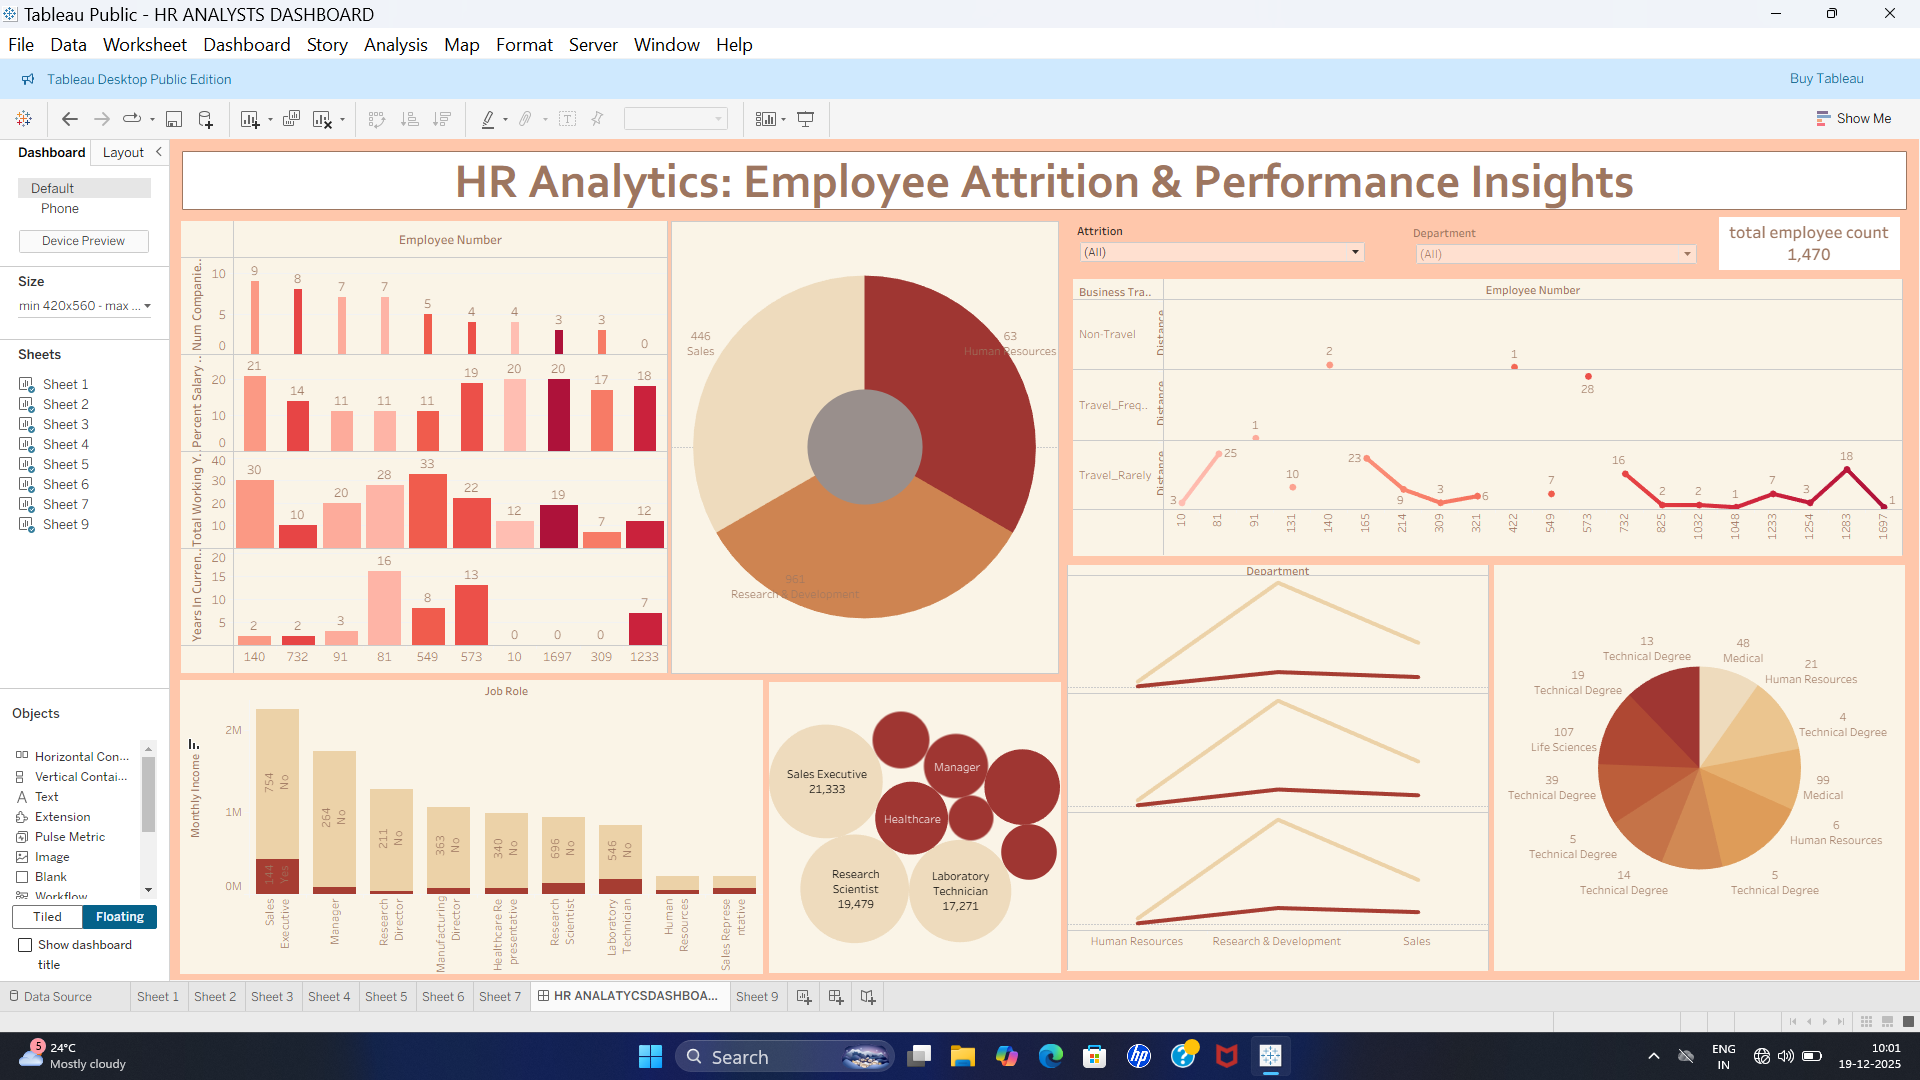

Layout of this report page (visuals, bound fields, positions):
{"tool":"tableau","page":{"name":"HR ANALATYCSDASHBOARD","canvas":[1000,1000],"units":"permille","ordinal":1},"visuals":[{"type":"title","box":[4.7,9.3,990.6,74.8]},{"type":"worksheet","title":"Sheet 9","mark":"Automatic","box":[885.6,92.3,105.8,63.1]},{"type":"filter","title":"Sheet 8","param":"[federated.1ck7q631gmphqs1922pox0fnwn81].[none:Attrition:nk]","box":[521.4,93.5,356.8,63.1]},{"type":"worksheet","title":"Sheet 3","mark":"Pie","rows":["Calculation_1061442191720660992","Calculation_1061442191720660992"],"box":[290.8,94.6,224.7,543.2]},{"type":"worksheet","title":"Sheet 5","mark":"Automatic","rows":["NumCompaniesWorked","PercentSalaryHike","TotalWorkingYears","YearsInCurrentRole"],"cols":["EmployeeNumber"],"box":[6.4,97,278.5,538.5]},{"type":"worksheet","title":"Sheet 7","mark":"Line","rows":["BusinessTravel","DistanceFromHome"],"cols":["EmployeeNumber"],"box":[518.6,167.1,472.3,329.4]},{"type":"worksheet","title":"Sheet 8","mark":"Automatic","box":[373.3,247.7,163.2,332.9]},{"type":"worksheet","title":"Sheet 1","mark":"Line","rows":["DailyRate","HourlyRate","MonthlyRate"],"cols":["Department"],"box":[518.4,507,235.2,483.6]},{"type":"worksheet","title":"Sheet 6","mark":"Pie","box":[757.2,507,235.2,482.5]},{"type":"worksheet","title":"Sheet 2","mark":"Bar","rows":["MonthlyIncome"],"cols":["JobRole"],"box":[5.7,643.7,333.3,349.3]},{"type":"worksheet","title":"Sheet 4","mark":"Circle","box":[342.5,646,172.1,345.8]}]}

Visuals, with their boxes on the dashboard's canvas, which has no fixed pixel size, in thousandths of its width and height (x1, y1, x2, y2). These are canvas units, not pixel positions in the 1920x1080 screenshot, which may show the page scaled, cropped or inside an application window:
title: detection(5, 9, 995, 84)
"Sheet 9" worksheet: detection(886, 92, 991, 155)
"Sheet 8" filter: detection(521, 94, 878, 157)
"Sheet 3" worksheet (Pie marks): detection(291, 95, 516, 638)
"Sheet 5" worksheet: detection(6, 97, 285, 636)
"Sheet 7" worksheet (Line marks): detection(519, 167, 991, 496)
"Sheet 8" worksheet: detection(373, 248, 536, 581)
"Sheet 1" worksheet (Line marks): detection(518, 507, 754, 991)
"Sheet 6" worksheet (Pie marks): detection(757, 507, 992, 990)
"Sheet 2" worksheet (Bar marks): detection(6, 644, 339, 993)
"Sheet 4" worksheet (Circle marks): detection(342, 646, 515, 992)
